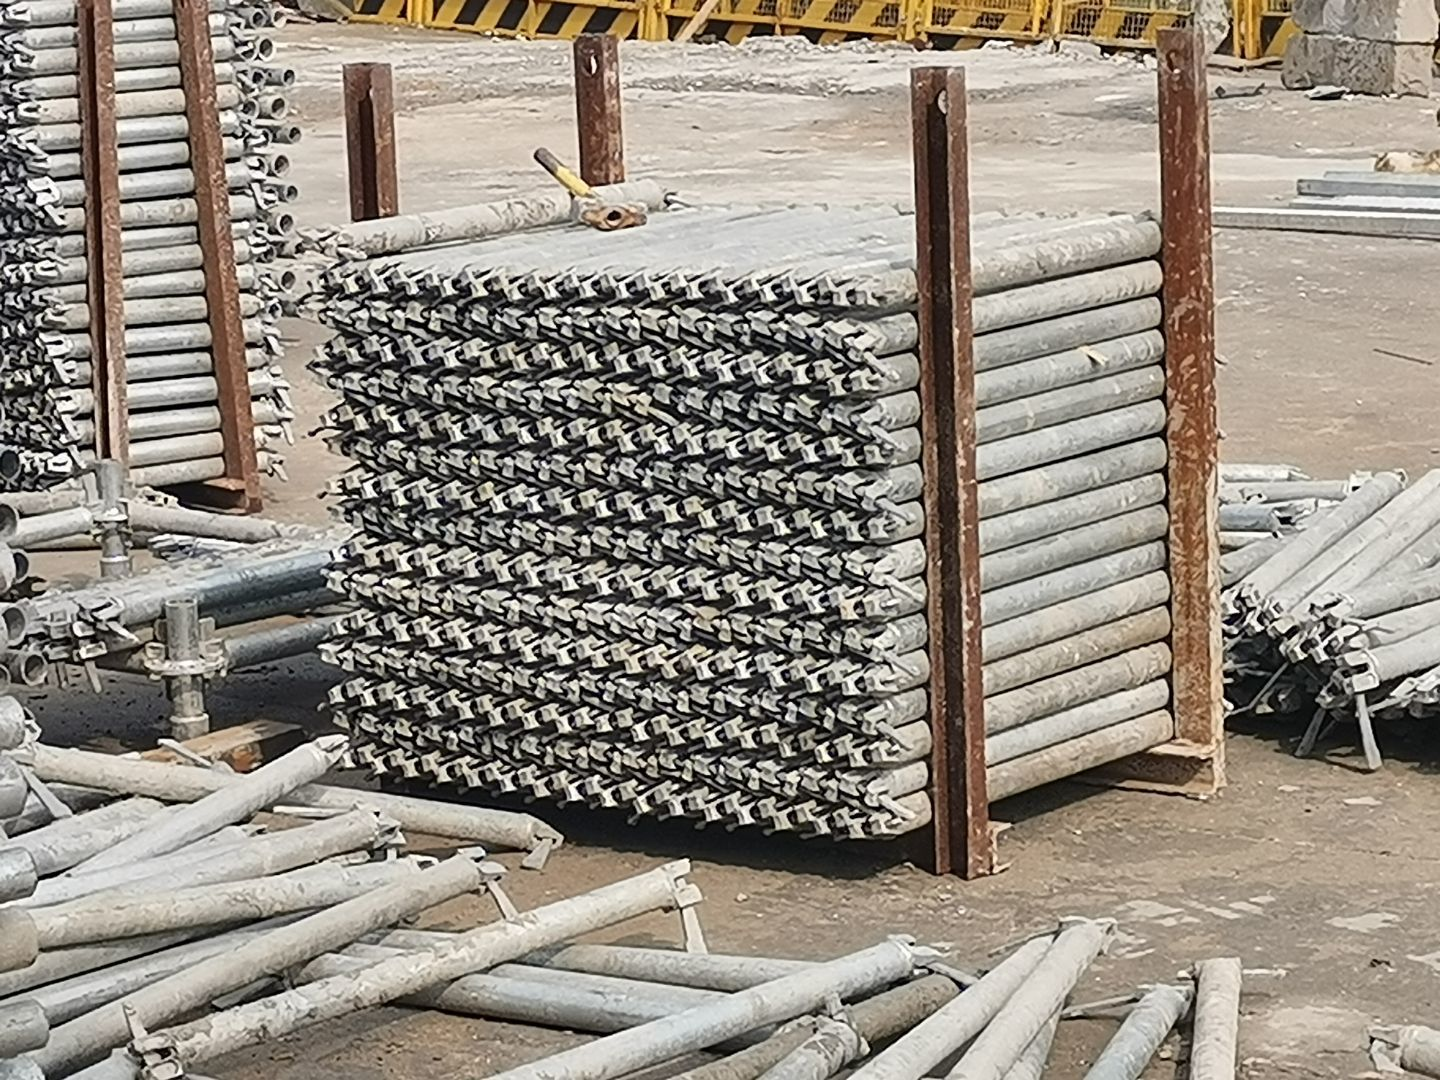scaffold: (322, 186, 1205, 857), (3, 2, 302, 482), (1225, 459, 1440, 766)
